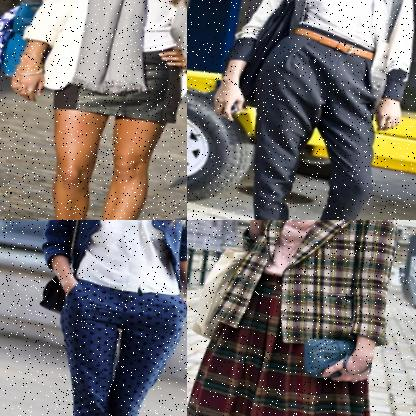jacket: (208, 220, 411, 351), (220, 0, 416, 103), (15, 0, 187, 117), (39, 220, 187, 293)
pants: (228, 16, 389, 220), (36, 274, 187, 416)
skirt: (187, 262, 395, 416), (48, 27, 187, 125)
